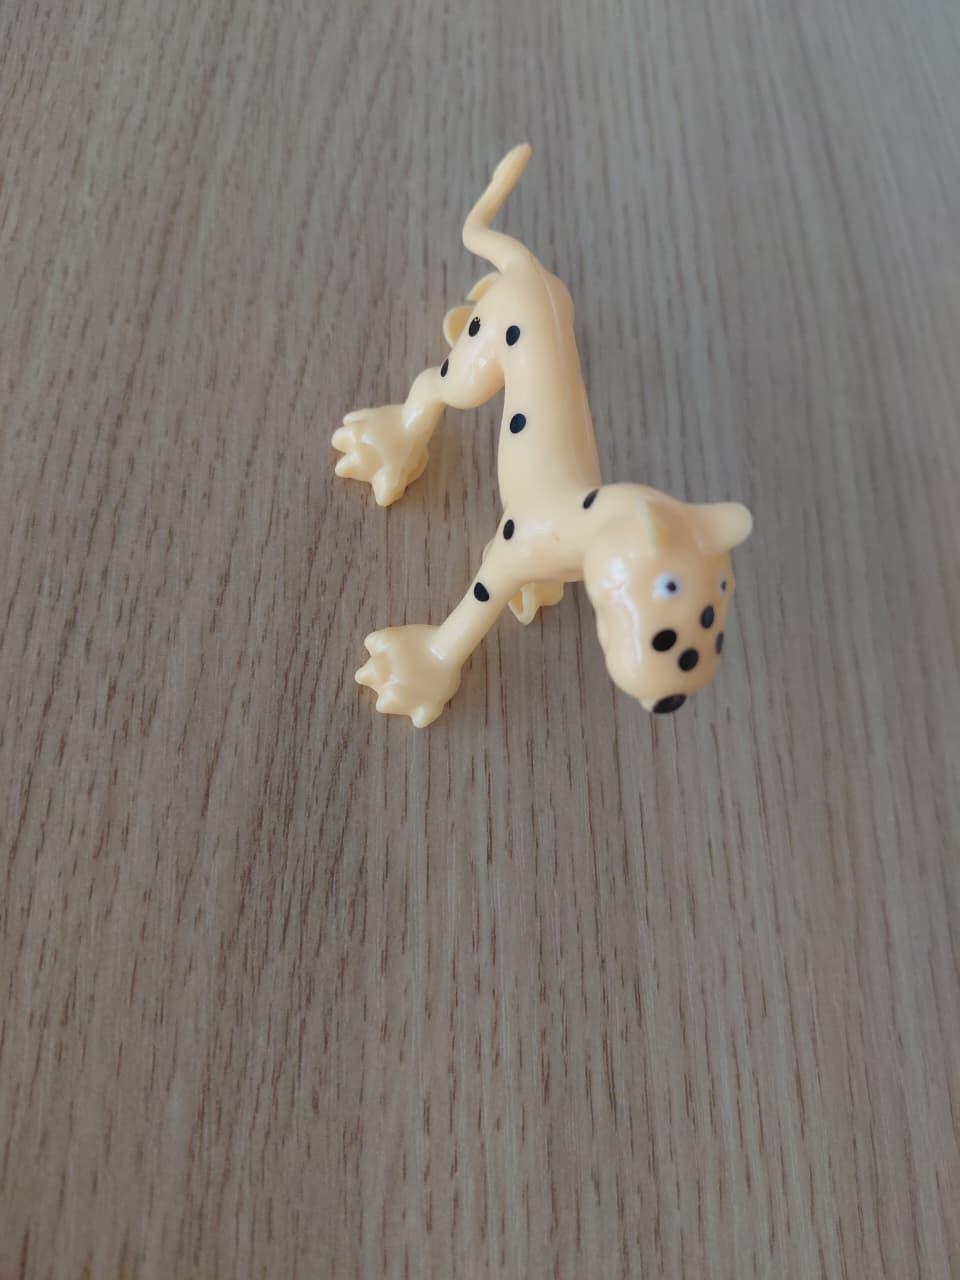cheetah: (287, 98, 790, 763)
